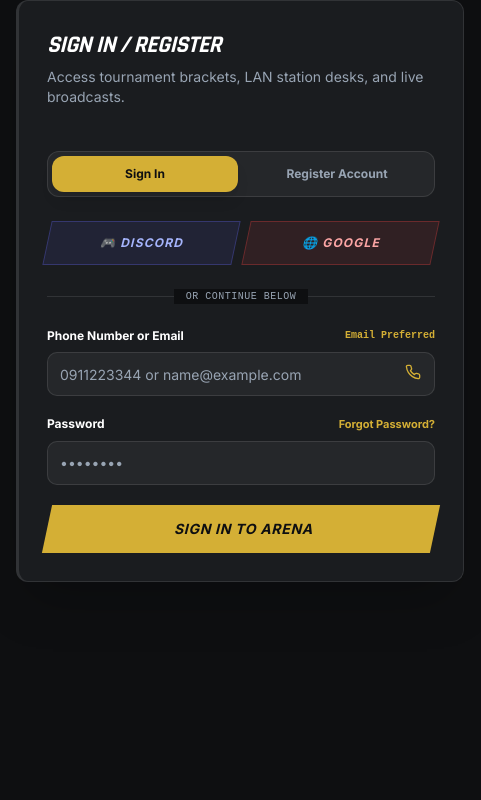
Test case: AuthPanel Role-Tailored Registration › renders Player registration fields by default when Register is clicked
Click the button "Register Account" at (337, 174), box [244,156,430,192]
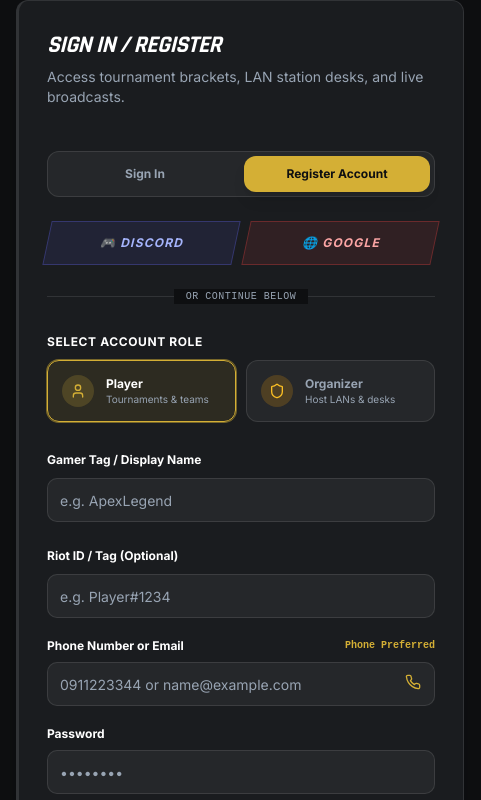
Check: the text "Player" is shown, box [106,376,143,390]
Check: the text "Organizer" is shown, box [305,376,363,390]
Check: the field labelled "Gamer Tag / Display Name" is shown, box [47,478,435,522]
